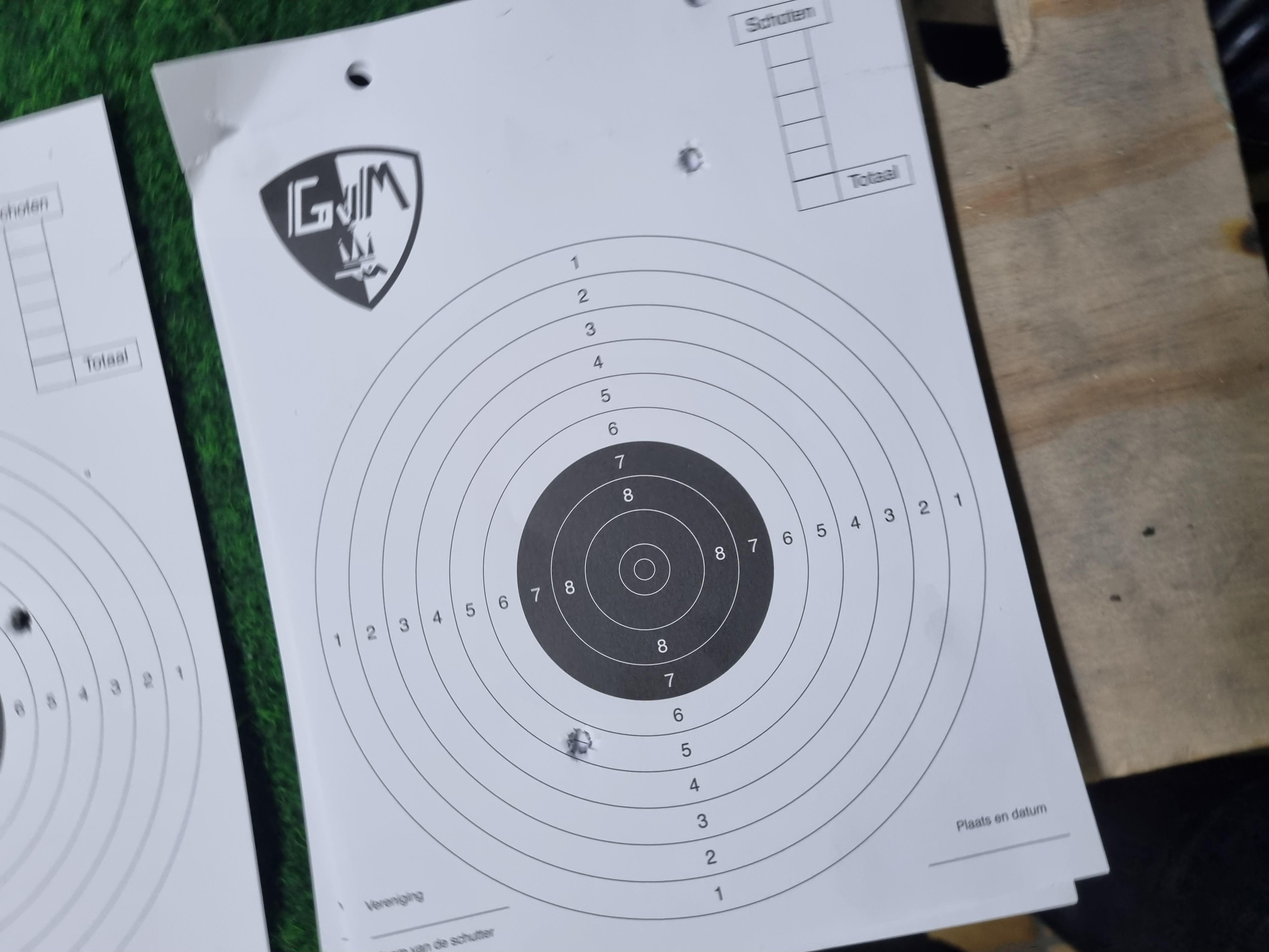hole: (258, 424, 300, 444), (1036, 507, 1074, 528)
